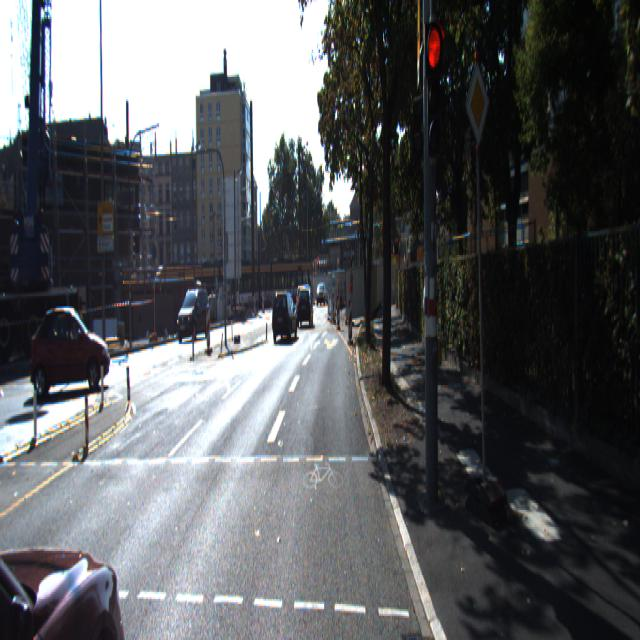Car: (0, 347, 136, 639), (32, 304, 112, 398), (177, 278, 210, 335), (270, 288, 298, 340), (296, 282, 313, 324)
